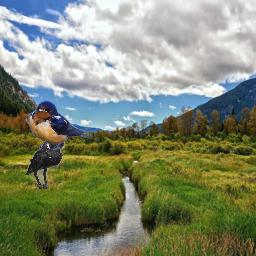Crow: (26, 133, 65, 190)
Swallow: (25, 100, 93, 152)
